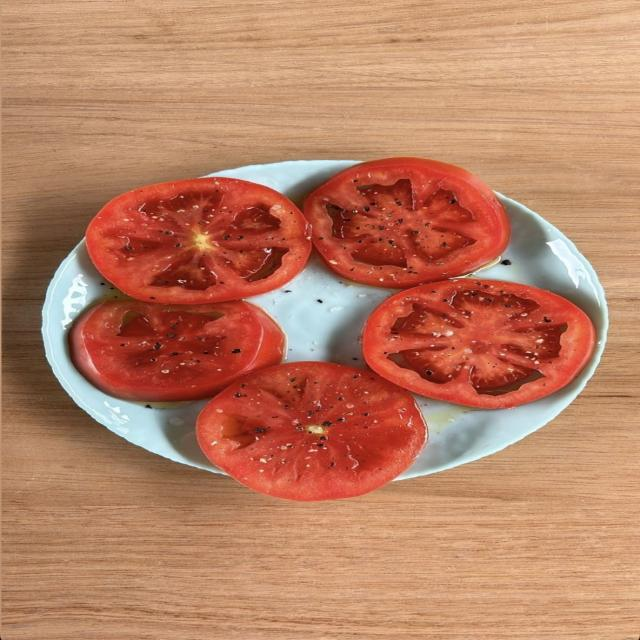sliced_tomato: (197, 362, 426, 501), (363, 278, 594, 408), (87, 178, 310, 304), (305, 158, 510, 288), (69, 300, 284, 401)
